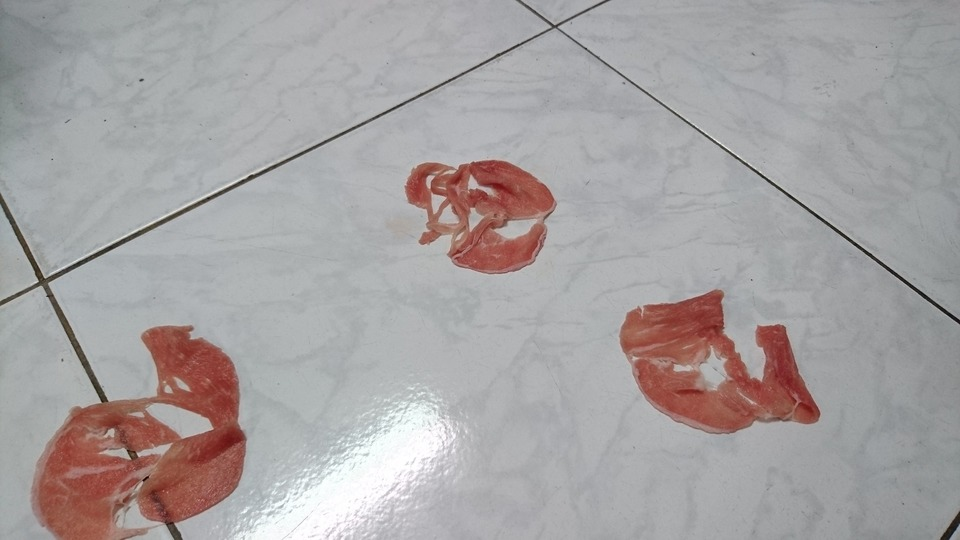restructured meat: (22, 322, 255, 540), (614, 284, 823, 436), (403, 156, 555, 275)
